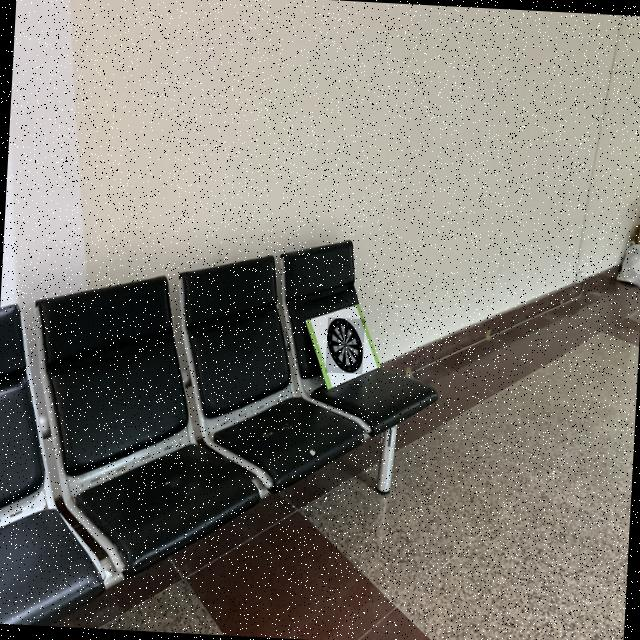archery-targets: (325, 318, 365, 374)
